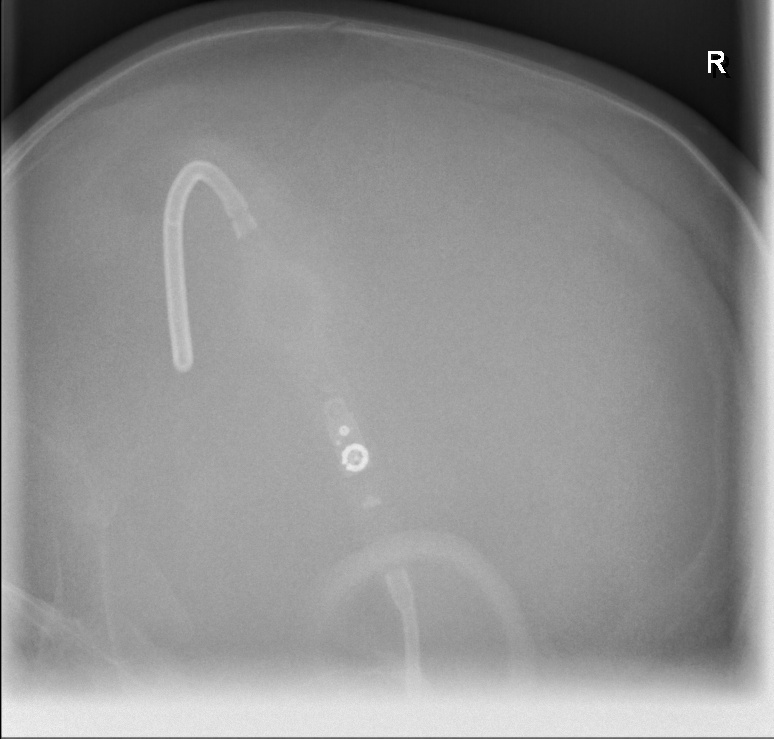Codman Hakim: (327, 419, 375, 480)
